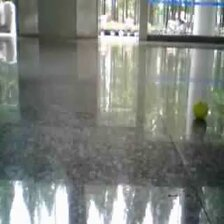tennis: (194, 102, 207, 118)
